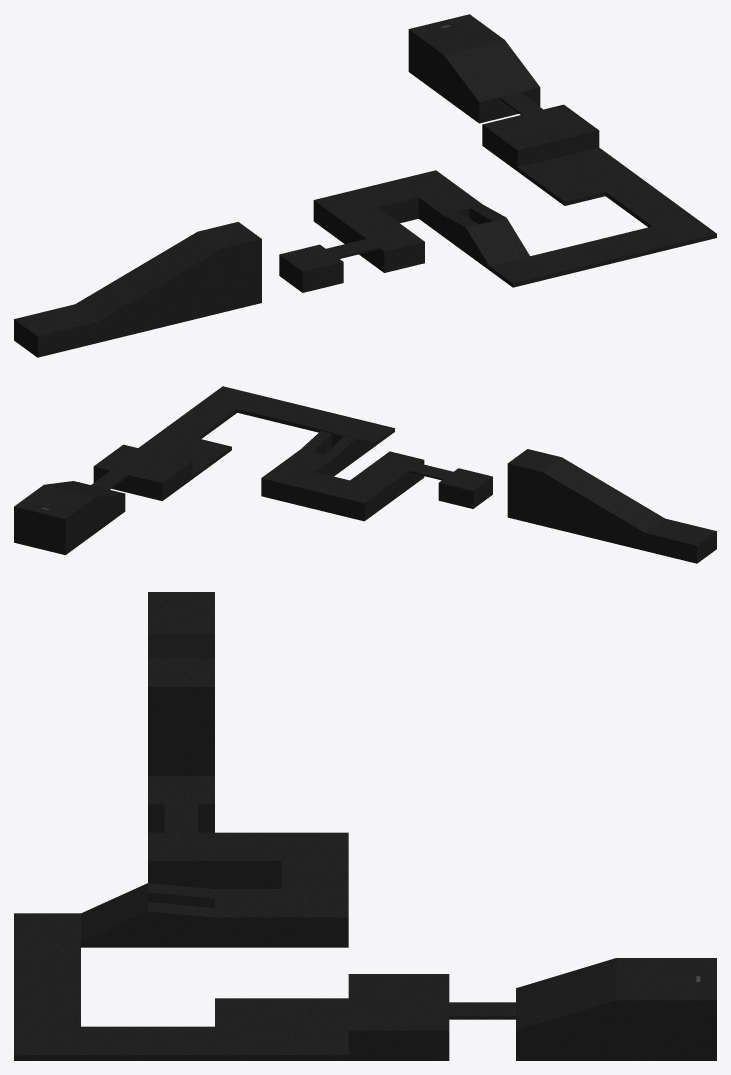
The model's file is Hole 9 Base.glb.
3 views of the same model, one above another, from view 1: azimuth 30°, elevation 25°; view 2: azimuth 150°, elevation 25°; view 3: azimuth 270°, elevation 25° (orthographic). The views are drawn at different scales.
Parts seen in each view (by area): view 1: Hole 9 Base; view 2: Hole 9 Base; view 3: Hole 9 Base.
Boxes of the visible parts, <box> form: Hole 9 Base: <box>14,14,716,357</box>; Hole 9 Base: <box>14,386,716,563</box>; Hole 9 Base: <box>14,592,716,1060</box>.
Size of what is drawn, in the model's own units: 31 by 3 by 21.
2 materials, 1 textured.
